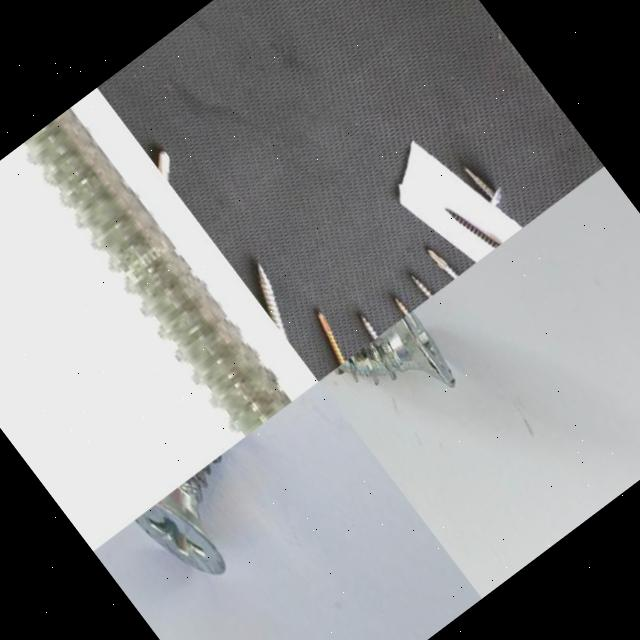Screw: (20, 104, 301, 438), (136, 462, 226, 575), (334, 311, 456, 388), (258, 264, 289, 341), (447, 208, 501, 248), (318, 311, 346, 365), (466, 167, 502, 206), (412, 276, 434, 298), (362, 316, 379, 340), (442, 260, 459, 279), (429, 250, 441, 263)
